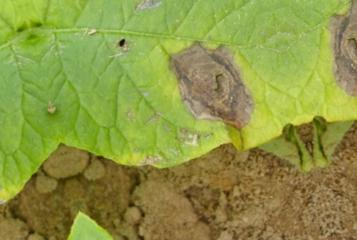Tomato Early blight leaf: (16, 0, 309, 206)
